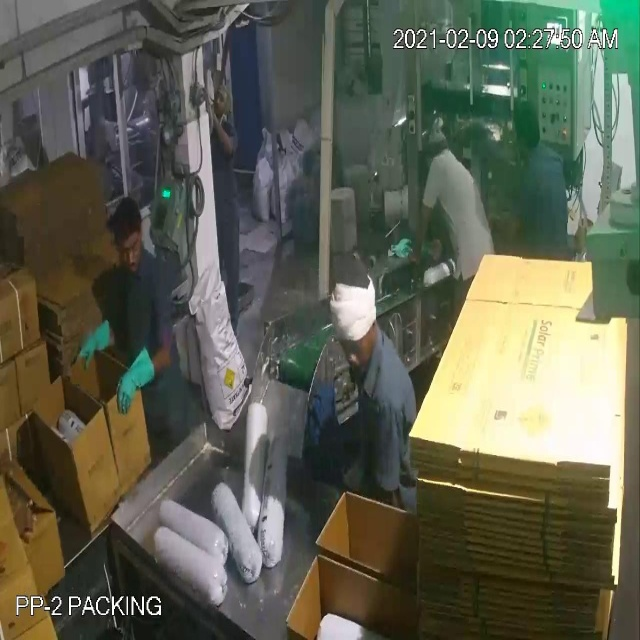Guantes: (108, 348, 159, 411), (70, 319, 114, 376)
Sin_guantes: (207, 98, 234, 159), (411, 196, 432, 273)
